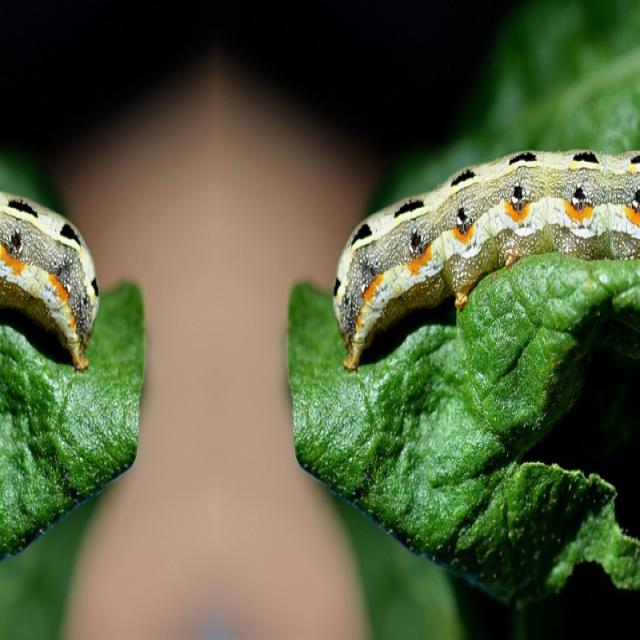armyworm: (331, 146, 639, 371), (0, 188, 100, 372)
